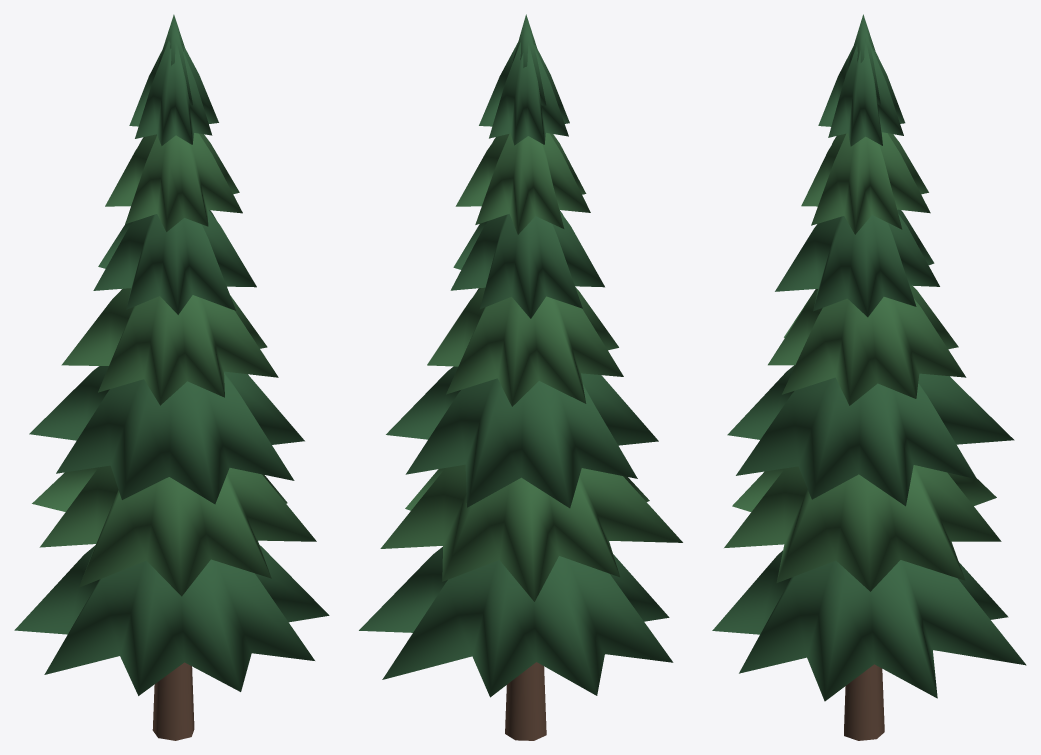
The model's file is pine_2.glb.
3 renders of one model, left to right at view 1: azimuth 30°, elevation 25°; view 2: azimuth 150°, elevation 25°; view 3: azimuth 270°, elevation 25°, orthographic.
Parts seen in each view (by area): view 1: pine_2; view 2: pine_2; view 3: pine_2.
Part boxes in pixels (<box>): pine_2: <box>14,14,329,740</box>; pine_2: <box>359,14,682,740</box>; pine_2: <box>712,14,1026,740</box>.
Bounding box in the file's own units: 4.44 × 11.08 × 4.4.
